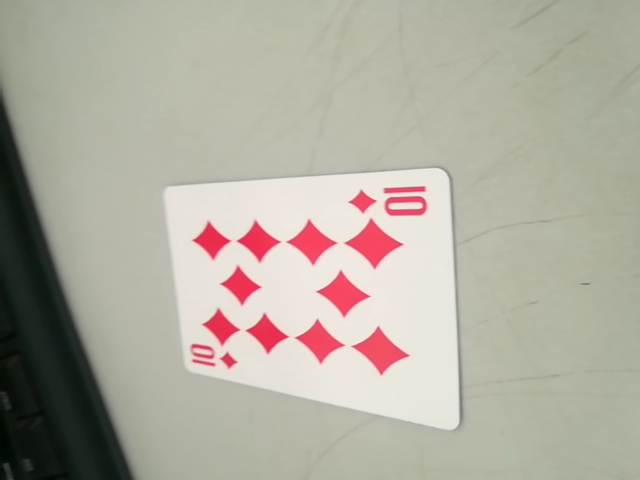fk 10: (349, 179, 435, 224), (184, 339, 247, 378)
